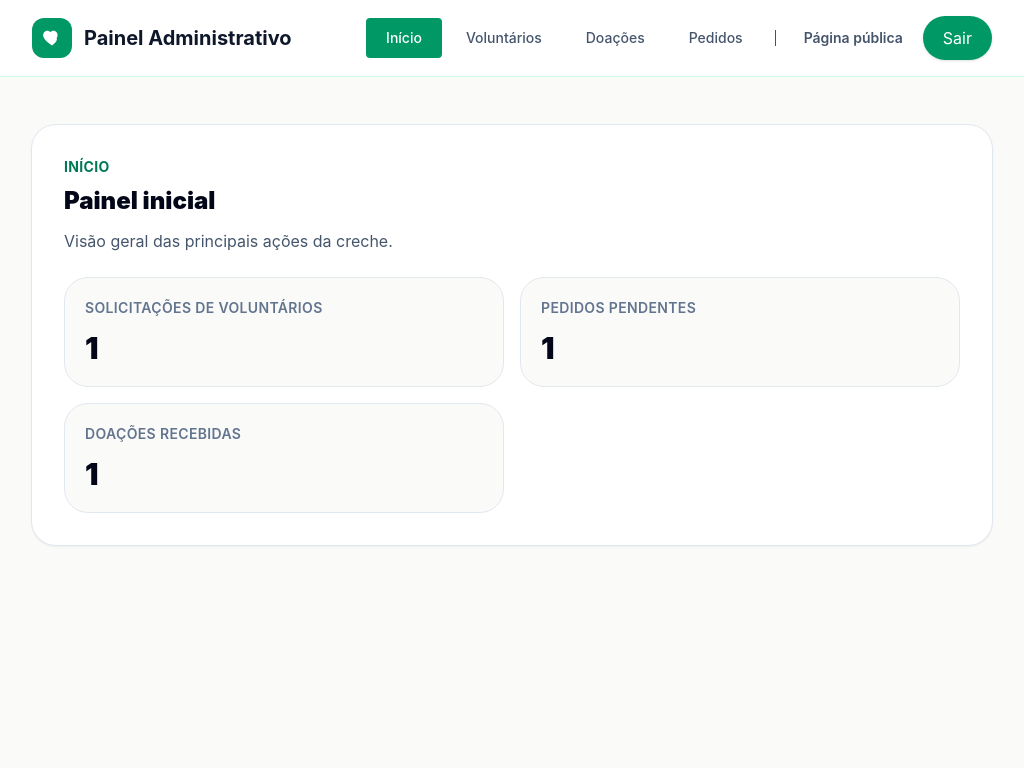
GerenciamentoPage › Conteúdo da aba Voluntários › exibe os cards de detalhes de voluntários
This screenshot has width=1024, height=768.
Click the button "Voluntários": (504, 38) [446, 18, 562, 58]
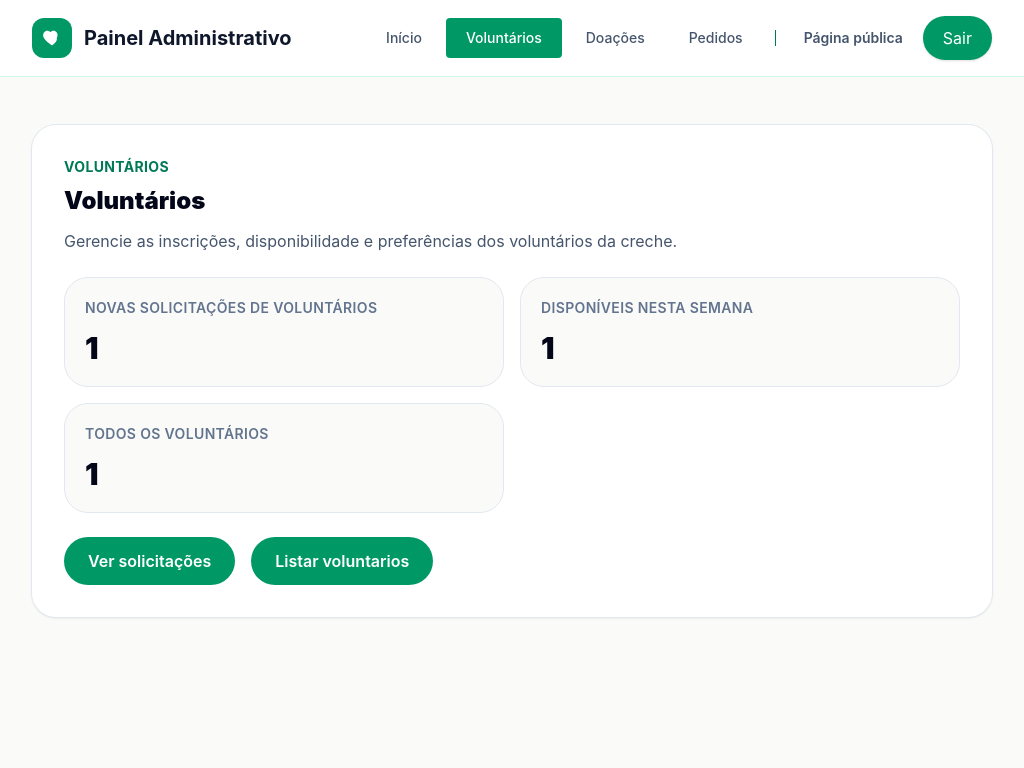
Expected: the text "Novas solicitações de voluntários" is shown, [85, 299, 377, 316]
Expected: the text "Disponíveis nesta semana" is shown, [541, 299, 753, 316]
Expected: the text "Todos os voluntários" is shown, [85, 425, 269, 442]
